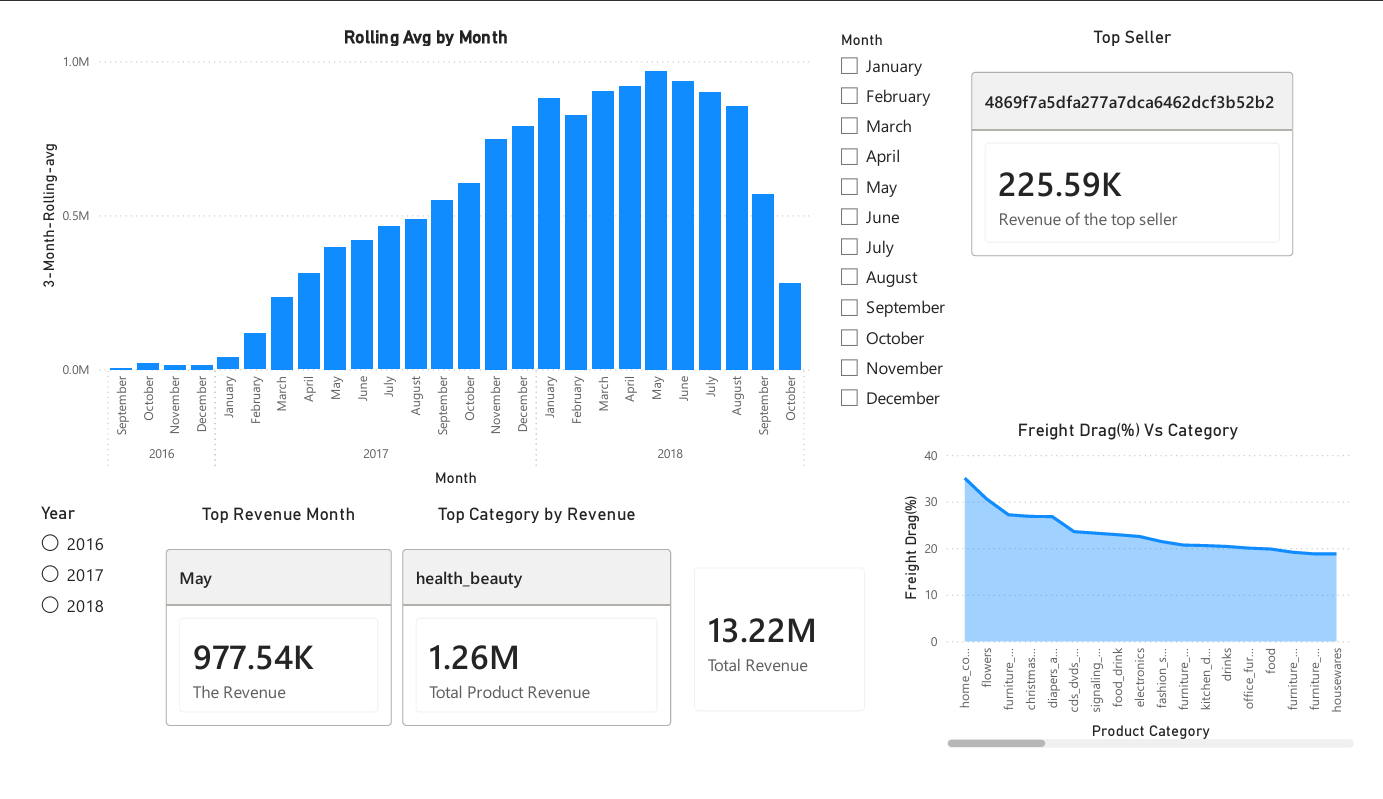

This screenshot's page, from the dashboard's own definition file:
{"tool":"powerbi","page":{"name":"Page 2","canvas":[1280,720],"ordinal":1},"visuals":[{"type":"clusteredColumnChart","title":"Rolling Avg by Month","fields":{"Category":["olist7.calender_month.Variation.Date Hierarchy.Year","olist7.calender_month.Variation.Date Hierarchy.Month"],"Y":["Sum(olist7.rolling_avg)"]},"box":[10,0,750,446.7],"z":0},{"type":"listSlicer","fields":{"Values":["olist7.calender_month.Variation.Date Hierarchy.Year"]},"box":[10,456.7,118.3,133.3],"z":1000},{"type":"cardVisual","title":"Top Revenue Month","fields":{"Data":["olist7.MaxRevenue in a Month"],"Rows":["olist7.calender_month.Variation.Date Hierarchy.Month"]},"box":[130,458.3,226.7,240],"z":2000},{"type":"cardVisual","fields":{"Data":["Sum(olist7.month_revenue)"]},"box":[625,503.3,198.3,171.7],"z":2001},{"type":"slicer","fields":{"Values":["olist7.calender_month.Variation.Date Hierarchy.Month"]},"box":[770,0,133.3,378.3],"z":2002},{"type":"stackedAreaChart","title":"Freight Drag(%) Vs Category","fields":{"Category":["olist5.product_category_name_english"],"Y":["Sum(olist5.freight_drag_percentage)"]},"box":[836.7,378.3,443.3,320],"z":2003},{"type":"cardVisual","title":"Top Seller","fields":{"Rows":["olist2.seller_id"],"Data":["Sum(olist2.total_revenue)"]},"box":[903.3,0,318.3,246.7],"z":2004},{"type":"cardVisual","title":"Top Category by Revenue","fields":{"Rows":["olist5.product_category_name_english"],"Data":["Sum(olist5.total_product_revenue)"]},"box":[357,458,268,240],"z":2005}]}

Visuals, with their boxes in screenshot pixels (x1, y1, x2, y2), scaled from the page's 1280x720 canvas onto the 1383x799 screenshot:
"Rolling Avg by Month" clusteredColumnChart: rect(11, 0, 821, 496)
listSlicer - olist7.calender_month.Variation.Date Hierarchy.Year: rect(11, 507, 139, 655)
"Top Revenue Month" cardVisual: rect(140, 509, 385, 775)
cardVisual - Sum(olist7.month_revenue): rect(675, 559, 890, 749)
slicer - olist7.calender_month.Variation.Date Hierarchy.Month: rect(832, 0, 976, 420)
"Freight Drag(%) Vs Category" stackedAreaChart: rect(904, 420, 1382, 775)
"Top Seller" cardVisual: rect(976, 0, 1320, 274)
"Top Category by Revenue" cardVisual: rect(386, 508, 675, 775)
